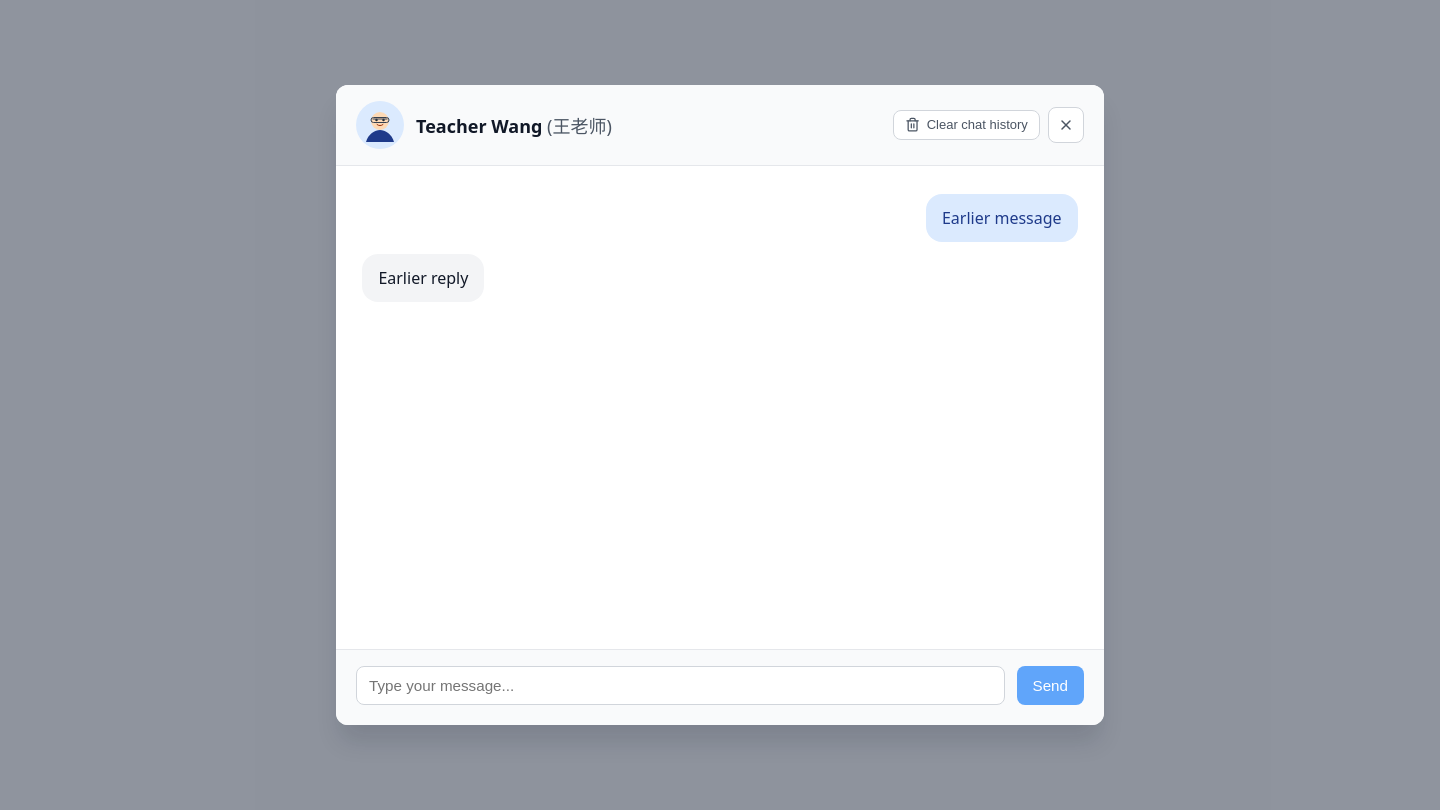
Test: ChatModal › clears chat history after confirmation
The width and height of the screenshot is (1440, 810).
Expected: the text "Earlier message" is shown, [926, 194, 1078, 242]
Click the button "Clear chat history" at (966, 125), box [893, 110, 1040, 140]
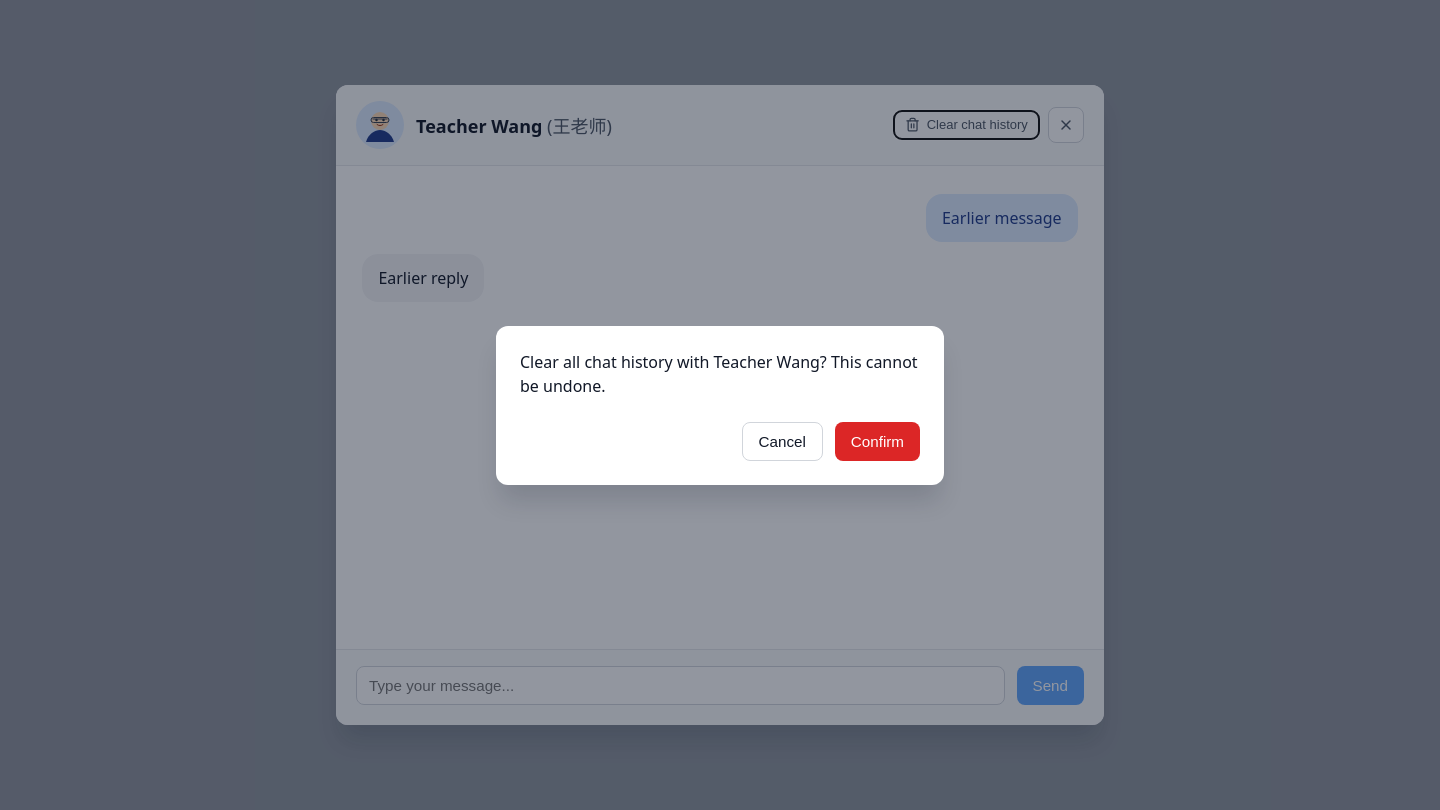
Now the text "Clear all chat history with Teacher Wang? This cannot be undone." is shown, box [520, 350, 920, 398]
Click the button "Confirm" at (877, 441), box [835, 422, 920, 460]
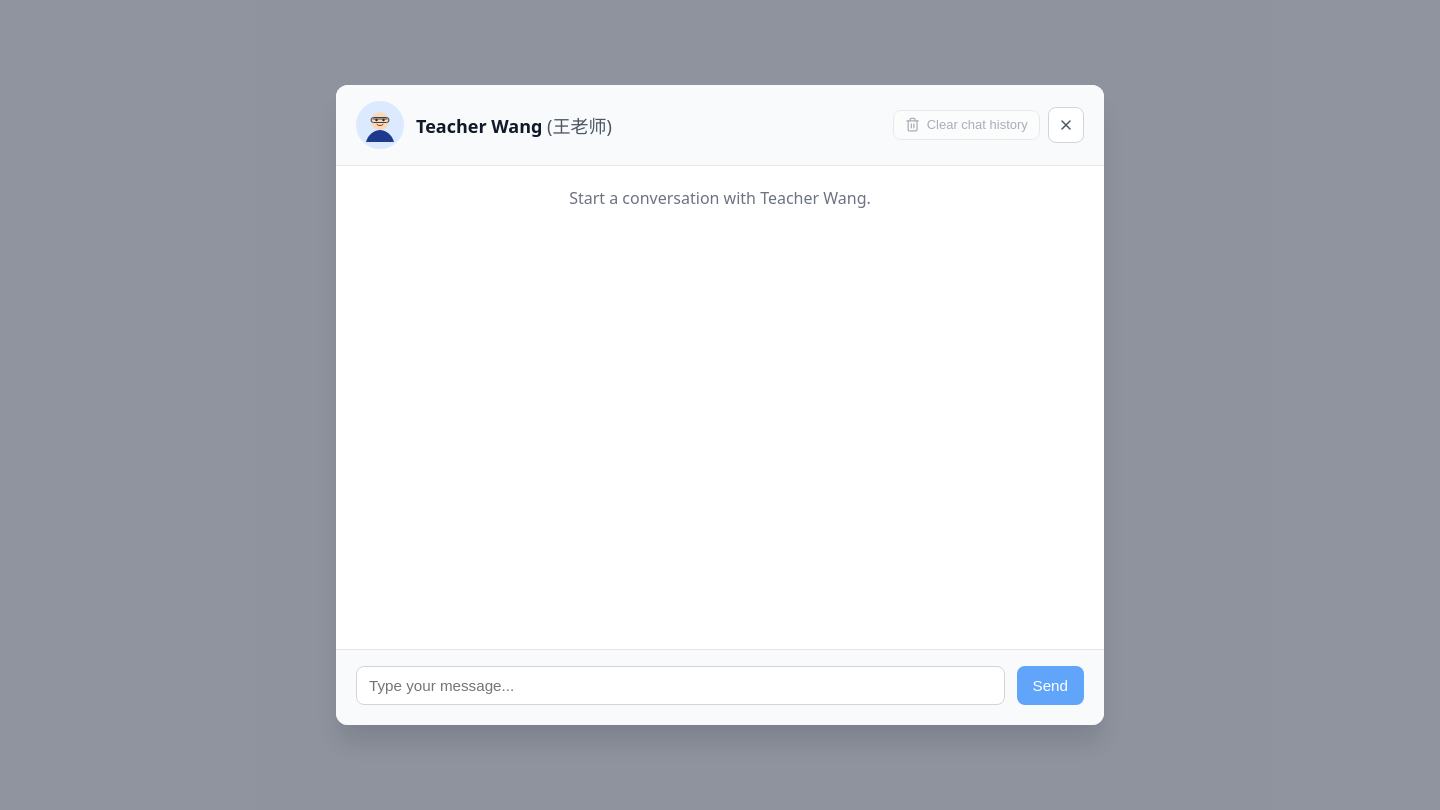
Now the text "Start a conversation with Teacher Wang." is shown, box [569, 187, 871, 209]
